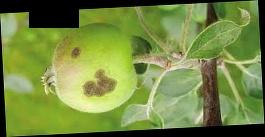rotten apple: (50, 24, 142, 114)
